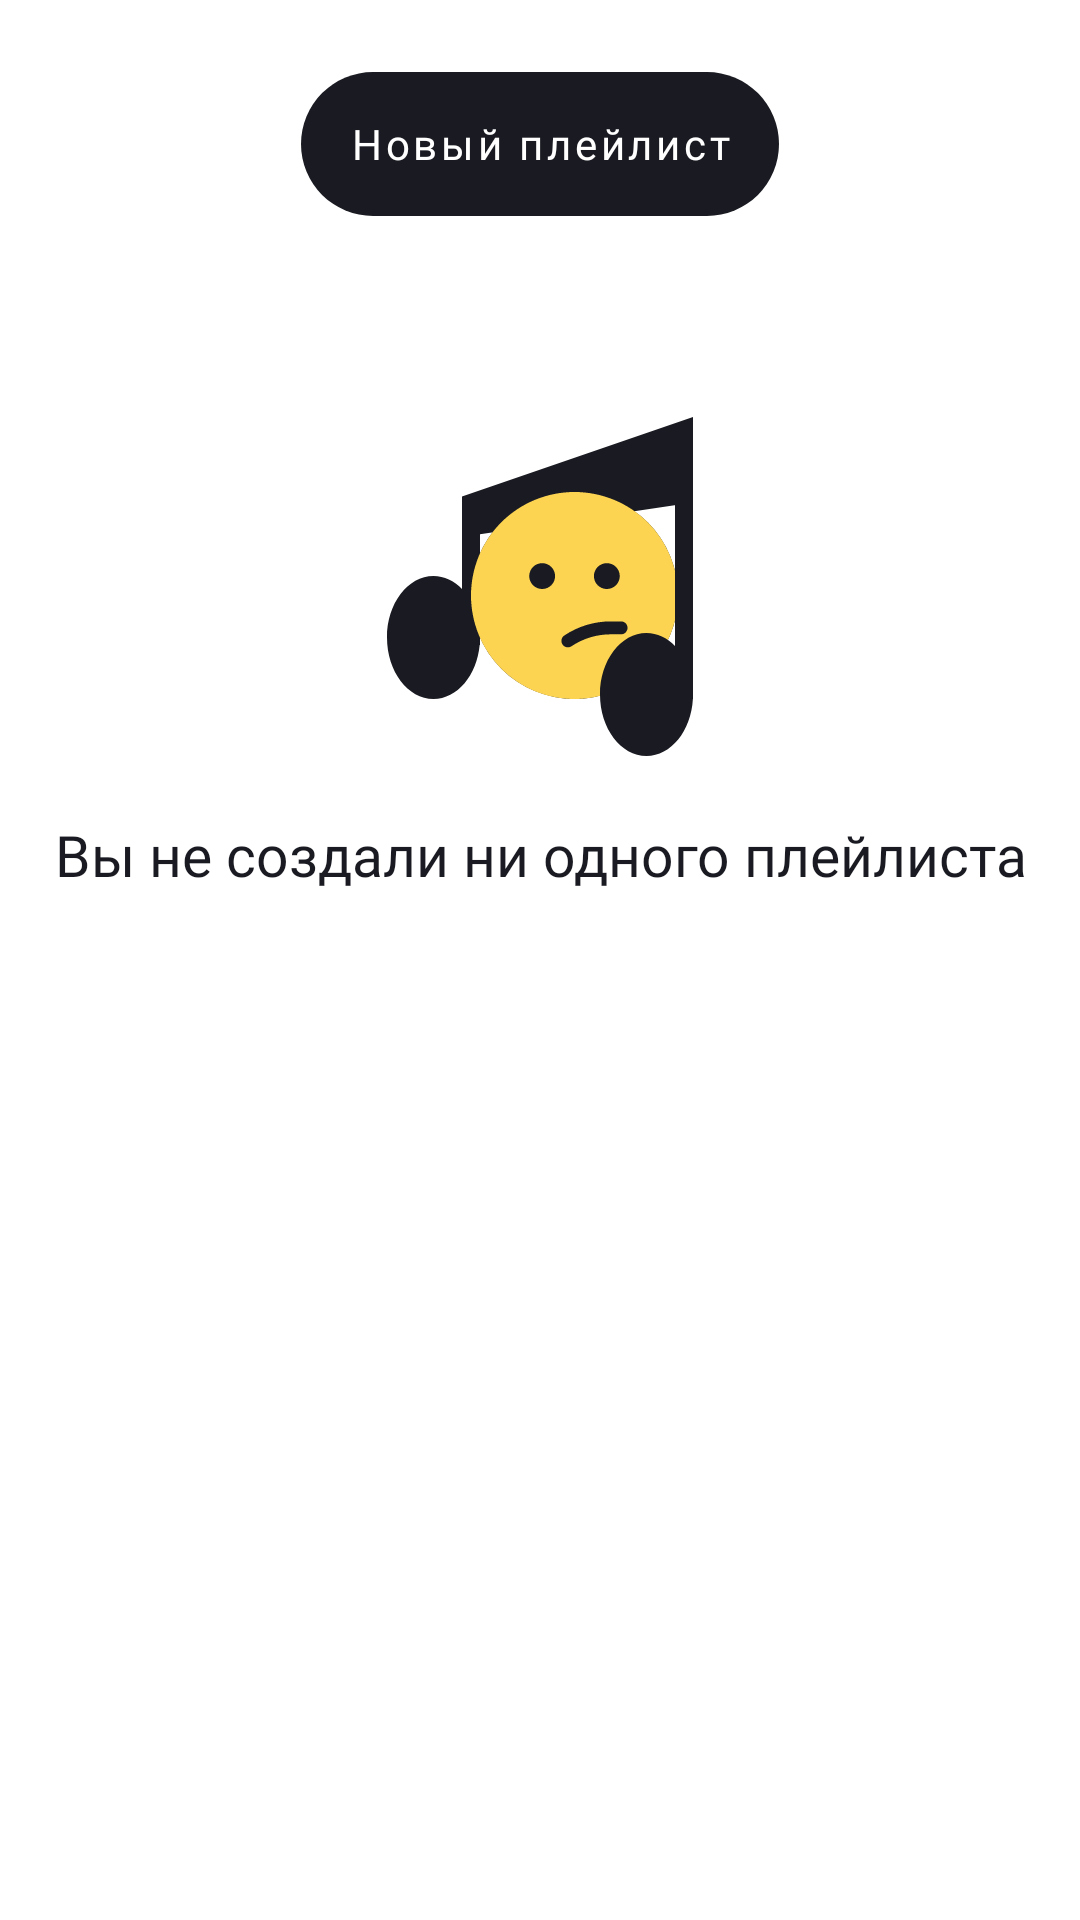

Icons on this 1080px x 1920px Android screen, each with the point to tap as (x=x, y=y):
empty error: (x=540, y=586)
